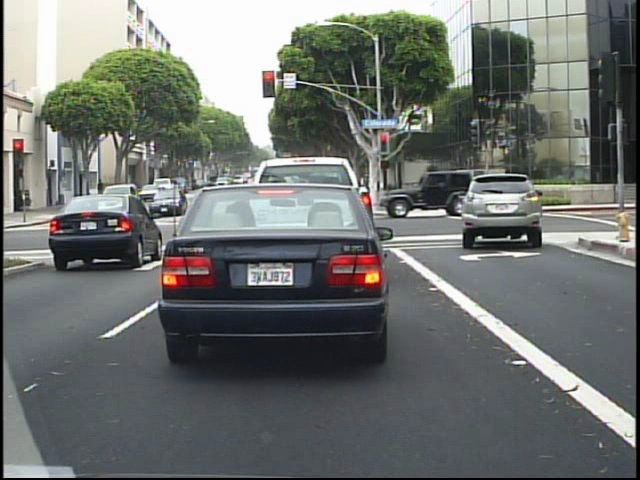person: (94, 176, 109, 206)
